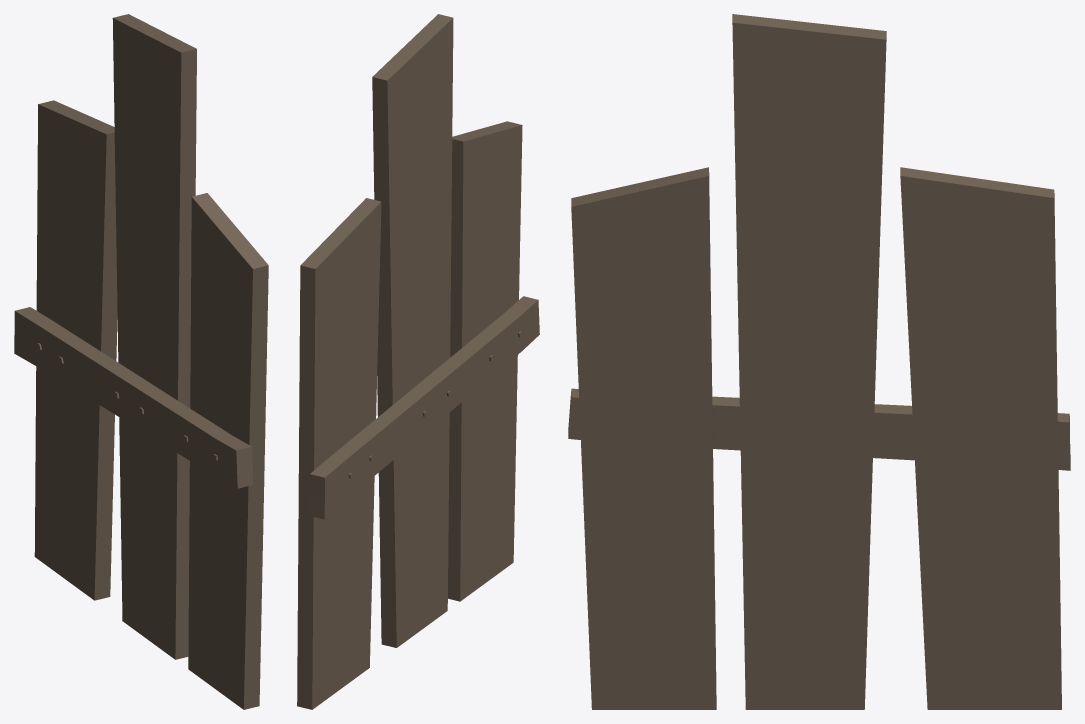
The model's file is fENCE.fbx.
The picture shows the model from 3 angles, left to right: view 1: azimuth 30°, elevation 25°; view 2: azimuth 150°, elevation 25°; view 3: azimuth 270°, elevation 25°; orthographic projection. The views are drawn at different scales.
Visible parts, largest first — view 1: pCube5; view 2: pCube5; view 3: pCube5.
Boxes of the visible parts, x1,y1,x2,y2 form: pCube5: (14, 14, 268, 709); pCube5: (297, 14, 539, 709); pCube5: (568, 14, 1070, 709).
Bounding box in the file's own units: 0.197 × 3.39 × 2.25.
